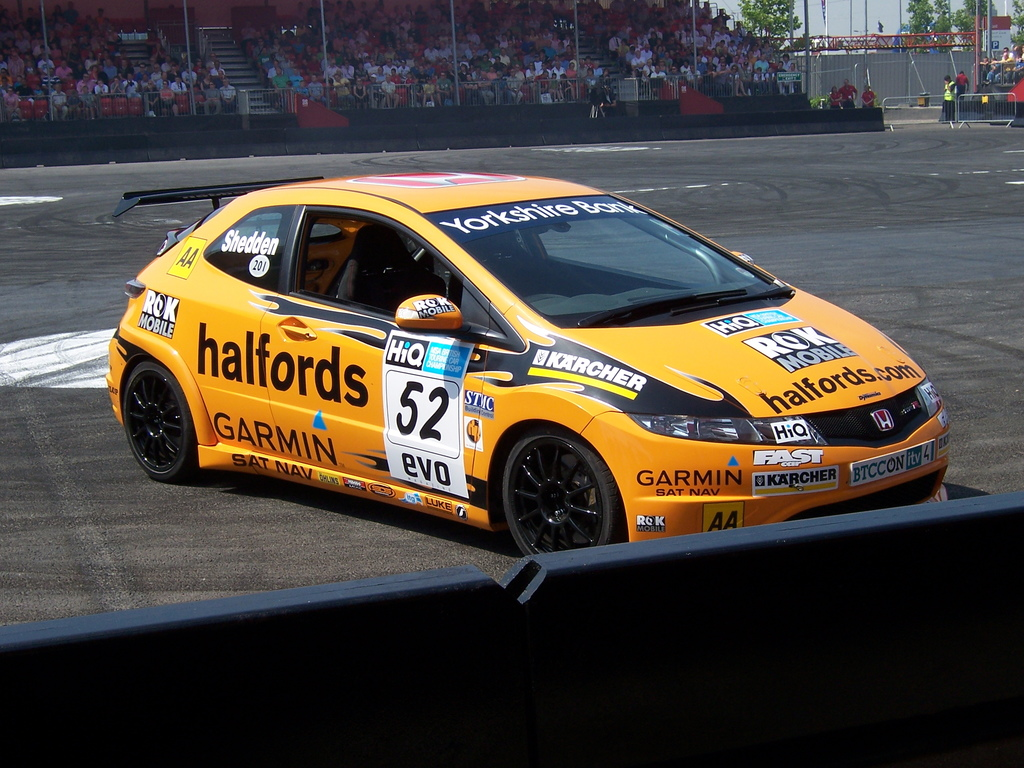Car: (105, 170, 951, 558)
